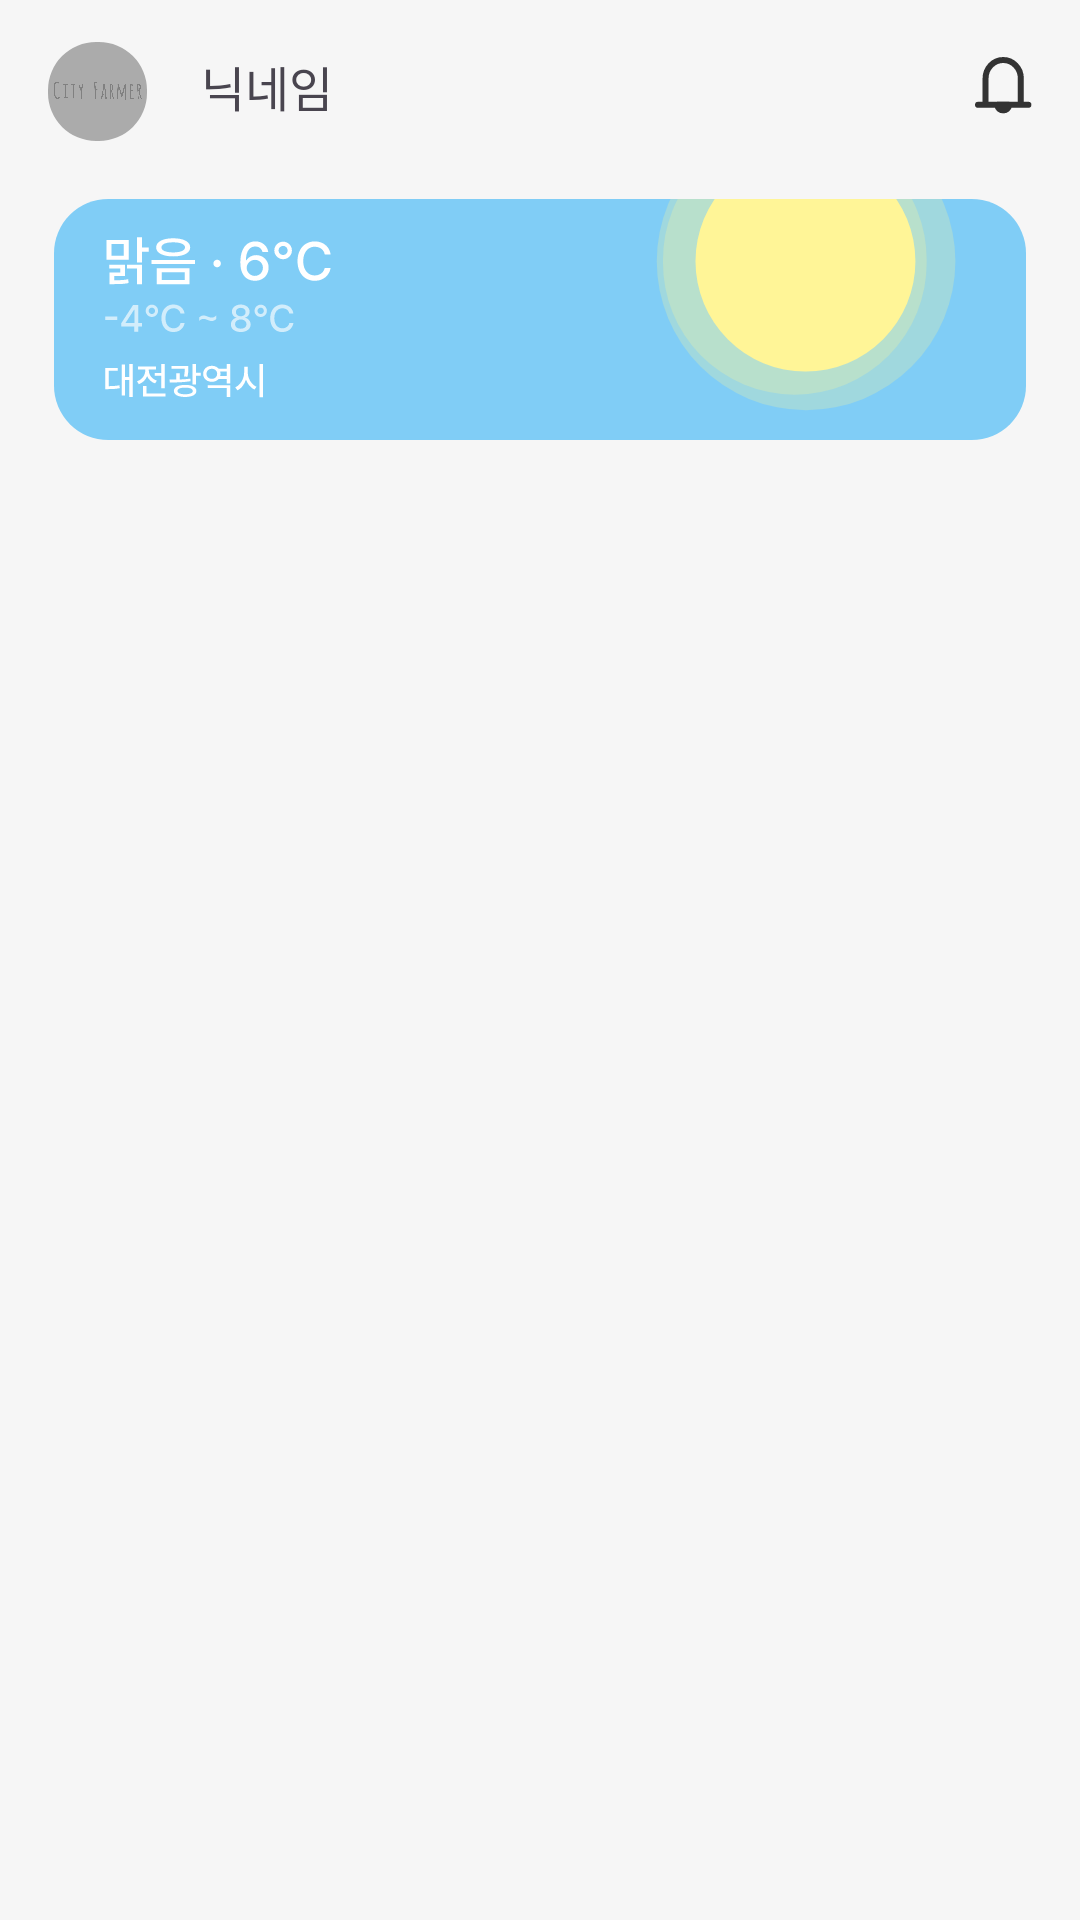

Screen size 1080*1920. Icon name, then its box in pixels as rect(x1, y1, x2, y2):
alert: rect(975, 57, 1032, 114)
